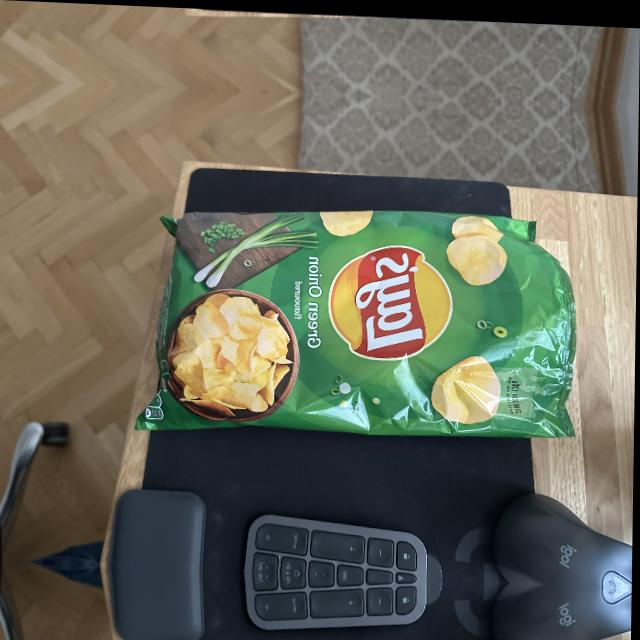lays: (329, 243, 455, 358)
